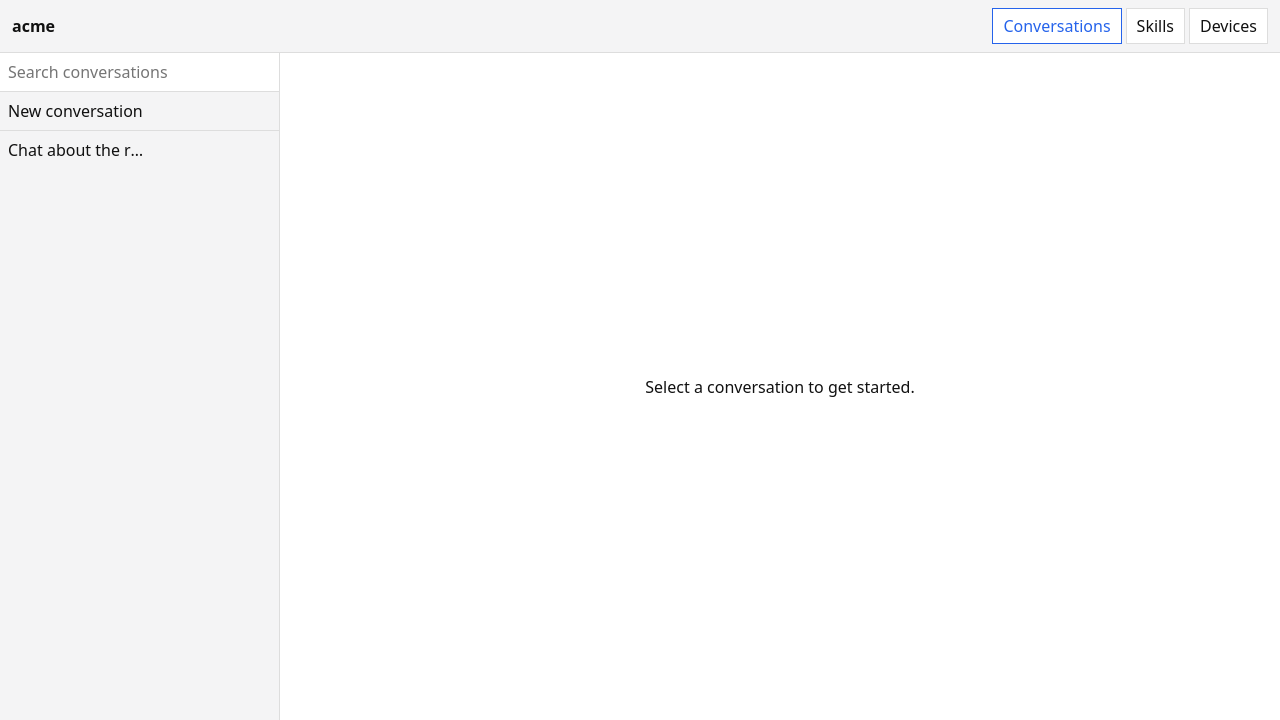
it: Shell › tasks panel (D3) › closes on Escape
The width and height of the screenshot is (1280, 720).
Click the button "Chat about the roadmap" at (79, 150), box x1=0 y1=131 x2=159 y2=169
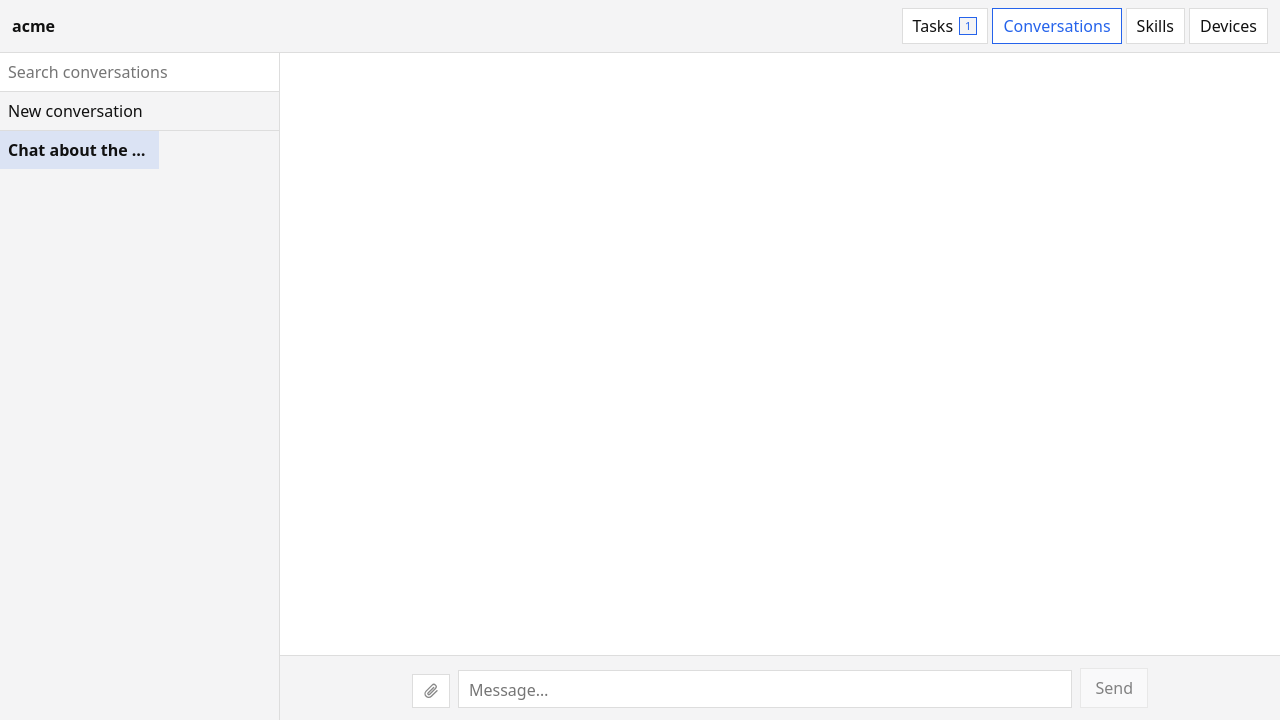
Click the button with test id "tasks-panel-toggle" at (945, 26), box x1=902 y1=8 x2=988 y2=44
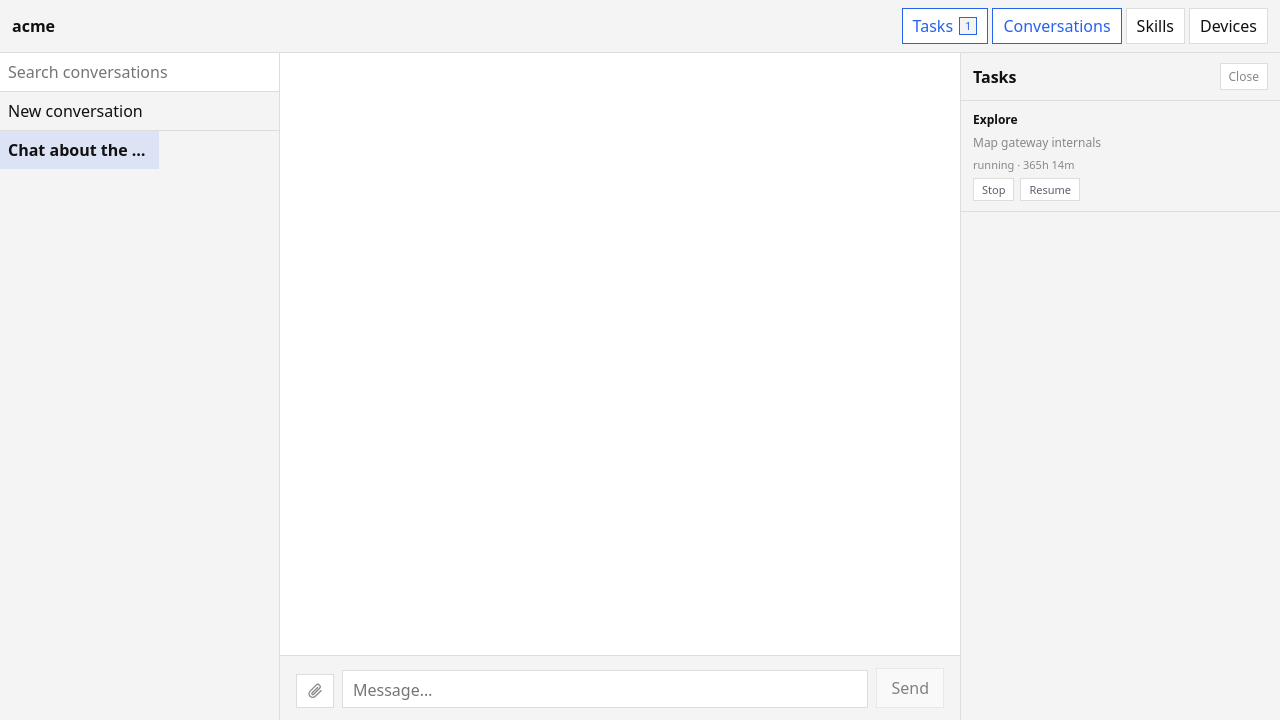
Press Escape
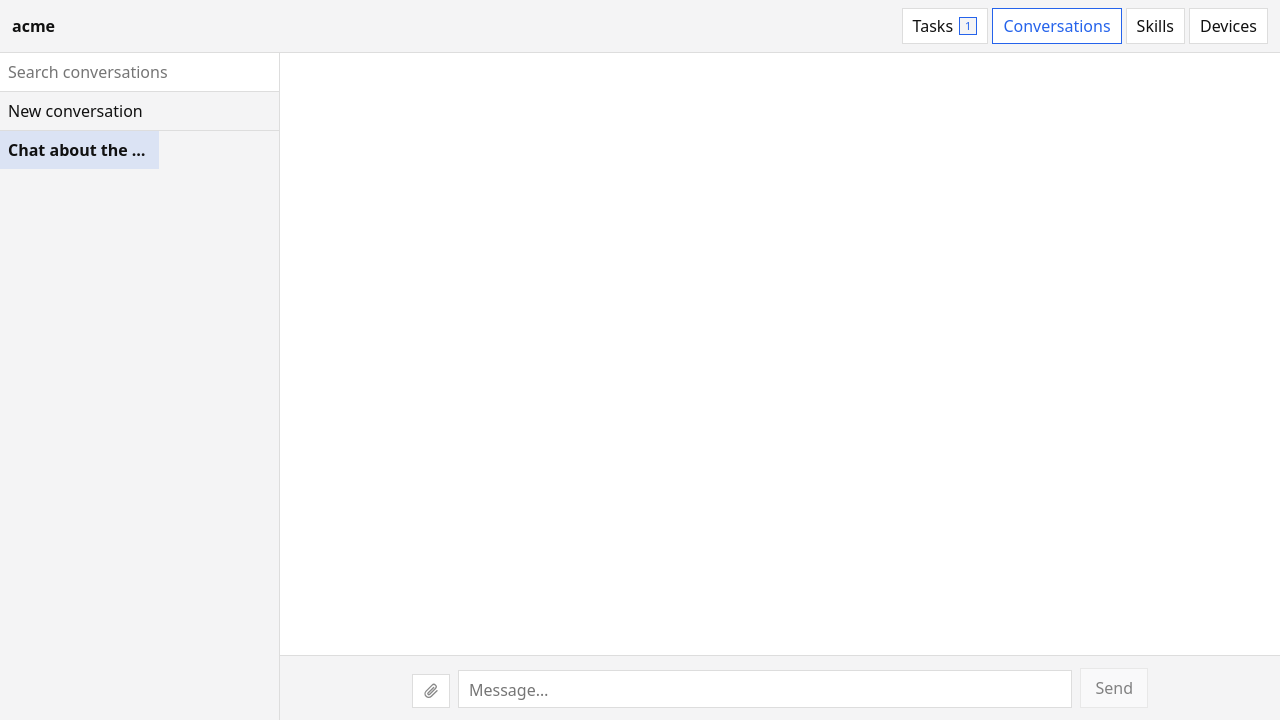
Expected: the button with test id "tasks-panel-toggle" is collapsed, x1=902 y1=8 x2=988 y2=44
